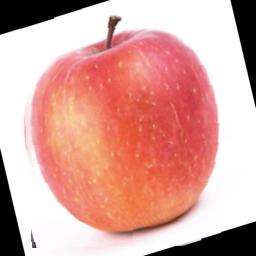Apple Fresh: (19, 0, 221, 248)
